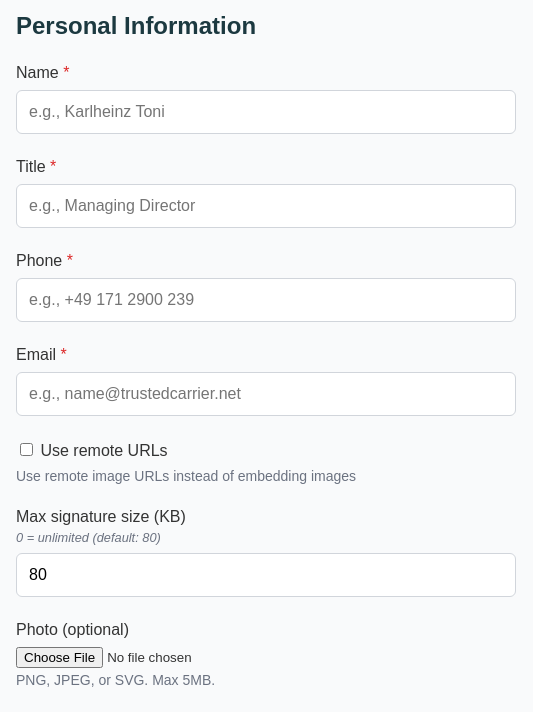
Scenario: SignatureForm › Remote URLs feature › should switch to URL input when checkbox is checked
This screenshot has width=533, height=712.
Step 1. Click the checkbox labelled "Use remote URLs" → (26, 449), box [20,443,33,456]
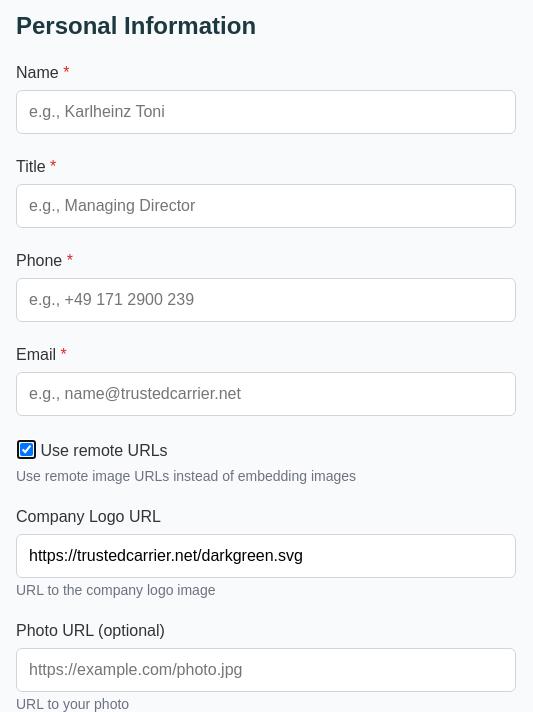
Result: the label labelled "Photo (optional)" is gone
Result: the field labelled "Photo URL (optional)" is shown at [16,648,516,692]
